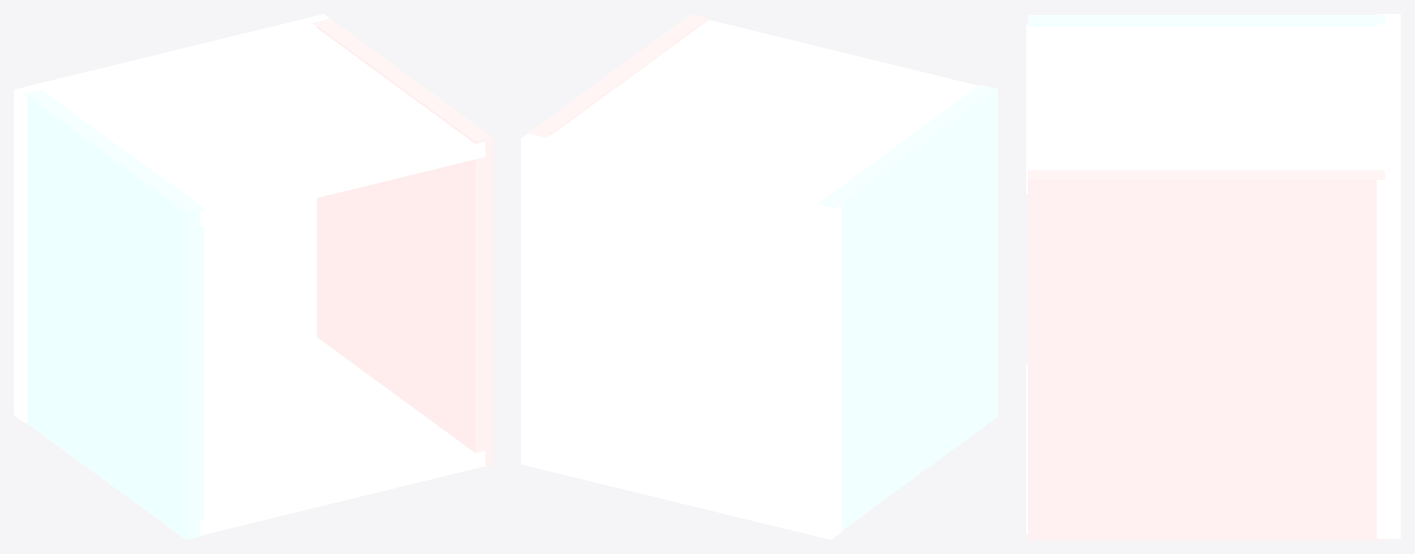
The model's file is barrel.gltf.
The picture shows the model from 3 angles, left to right: view 1: azimuth 30°, elevation 25°; view 2: azimuth 150°, elevation 25°; view 3: azimuth 270°, elevation 25°; orthographic projection. The views are drawn at different scales.
Parts seen in each view (by area): view 1: CornellBoxWithBarrel; view 2: CornellBoxWithBarrel; view 3: CornellBoxWithBarrel.
Boxes of the visible parts, <box> form: CornellBoxWithBarrel: <box>14,14,492,539</box>; CornellBoxWithBarrel: <box>521,14,997,539</box>; CornellBoxWithBarrel: <box>1026,14,1400,539</box>.
Size of the model in its own units: 2.74 by 2.77 by 2.6.
1 material, 1 textured.
